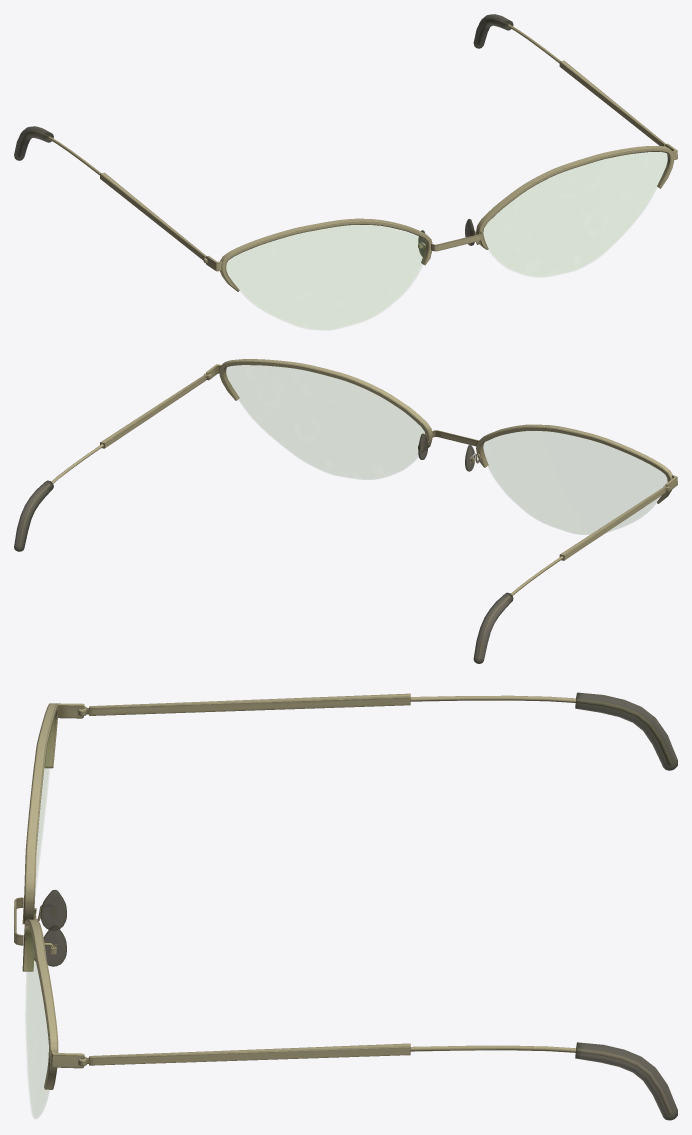
File: glasses1.glb
3 views of the same model, one above another, from view 1: azimuth 30°, elevation 25°; view 2: azimuth 150°, elevation 25°; view 3: azimuth 270°, elevation 25° (orthographic). The views are drawn at different scales.
Visible parts, largest first — view 1: Front_Glasses__0; view 2: Front_Glasses__0; view 3: Front_Glasses__0.
Part boxes in pixels (left/top/right/bottom): Front_Glasses__0: left=14, top=14, right=677, bottom=330; Front_Glasses__0: left=14, top=359, right=677, bottom=663; Front_Glasses__0: left=14, top=692, right=677, bottom=1120.
Bounding box in the file's own units: 140 × 30.36 × 110.
Materials: 1 (1 with a texture image).
